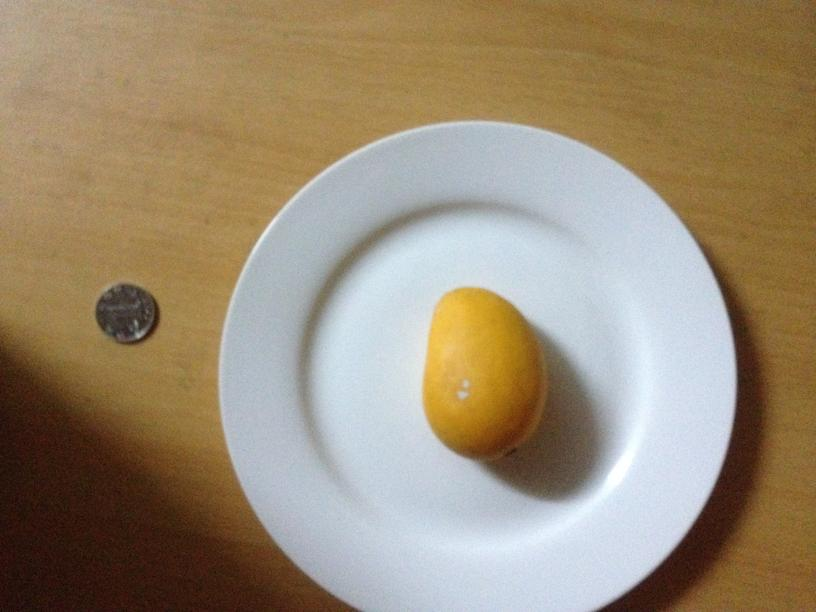coin: (94, 280, 158, 343)
mango: (426, 289, 546, 457)
